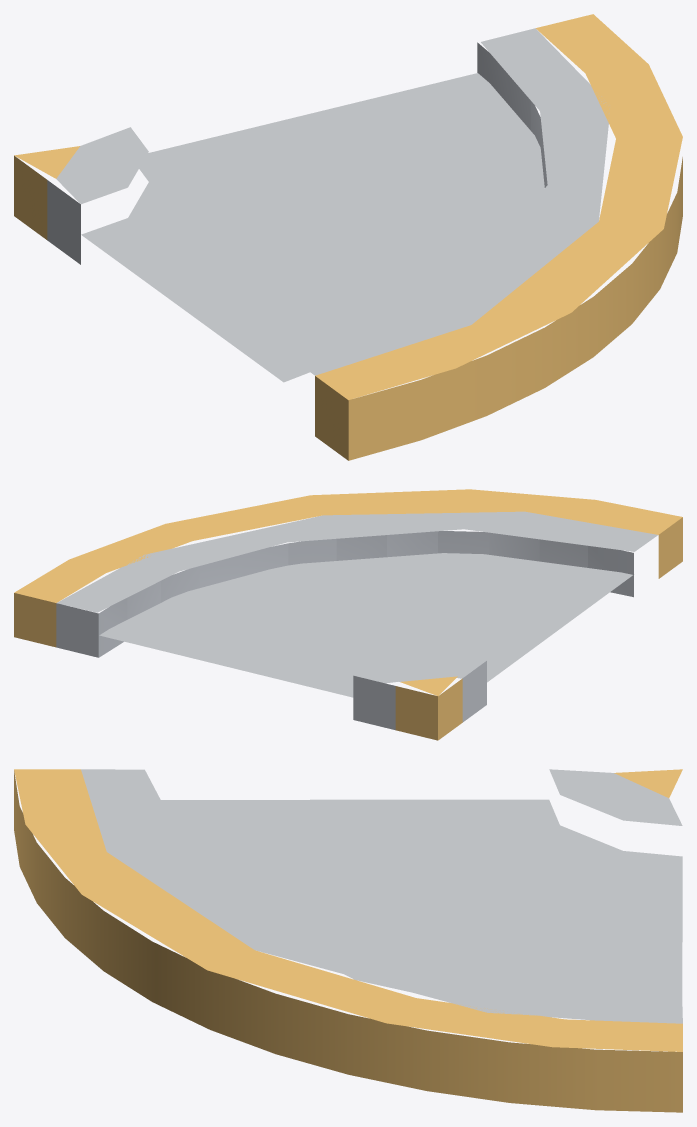
The model's file is platform_cornerRound_lod1.glb.
The picture shows the model from 3 angles, top to bottom: view 1: azimuth 30°, elevation 25°; view 2: azimuth 150°, elevation 25°; view 3: azimuth 270°, elevation 25°; orthographic projection. The views are drawn at different scales.
Parts seen in each view (by area): view 1: platform_cornerRound.001; view 2: platform_cornerRound.001; view 3: platform_cornerRound.001.
Boxes of the visible parts, x1,y1,x2,y2 form: platform_cornerRound.001: (14, 14, 682, 460); platform_cornerRound.001: (14, 489, 682, 740); platform_cornerRound.001: (14, 769, 682, 1112).
Size of the model in its own units: 1 by 0.1 by 1.
